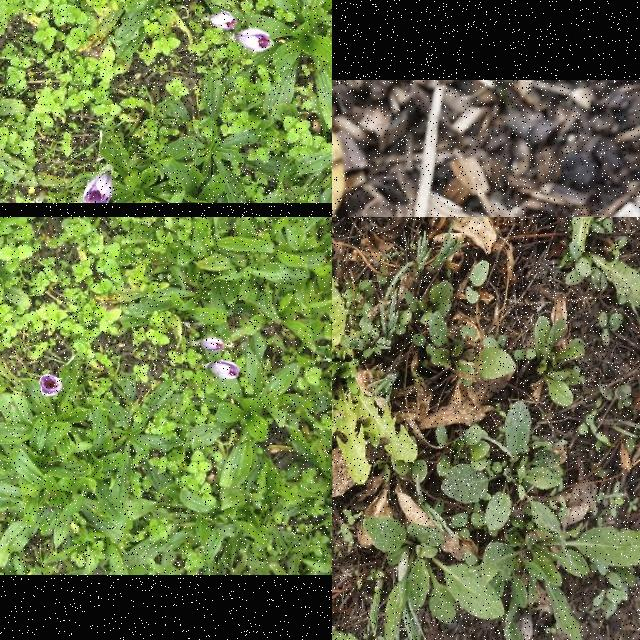flower: (82, 174, 114, 203), (238, 28, 274, 52), (208, 360, 242, 380), (38, 375, 64, 397), (210, 12, 238, 30), (199, 338, 225, 352)
